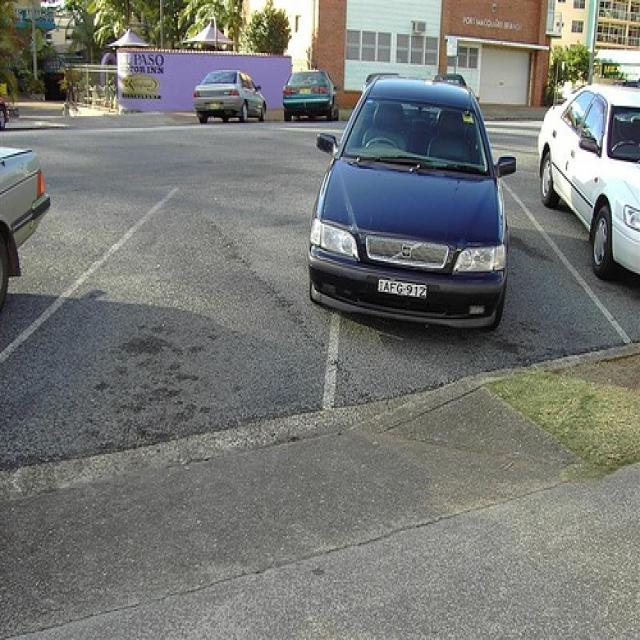car: (307, 67, 516, 331), (536, 77, 639, 288), (0, 145, 50, 304), (191, 66, 266, 123), (282, 66, 339, 118)
